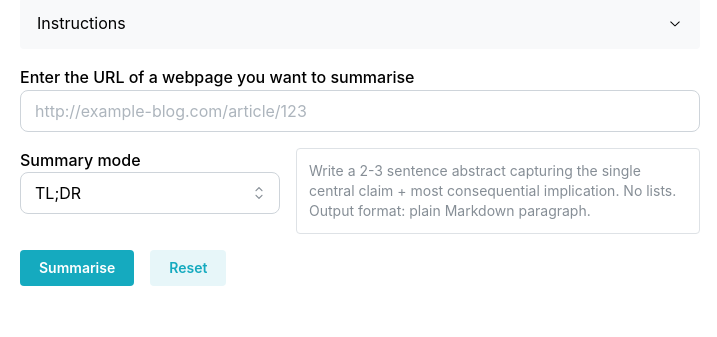
Test: ArticleParser component › shows error when trying to submit empty input
Click the button "Summarise".
click(77, 268)  # box [20,250,134,286]
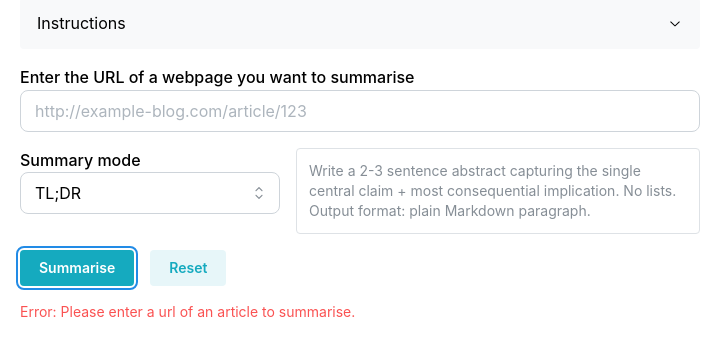
Expected: the text "Error: Please enter a url of an article to summarise." is shown, [20,304,355,320]
